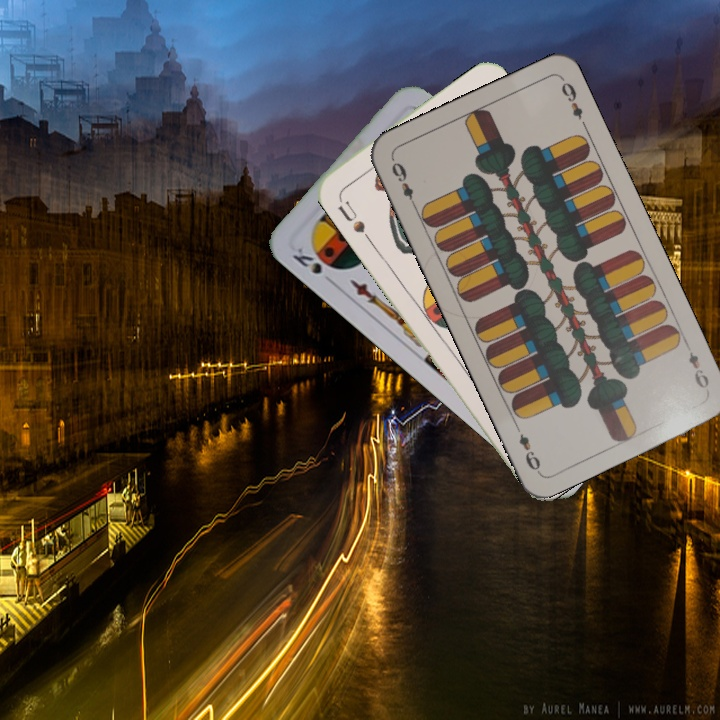E9: (387, 155, 420, 211), (681, 338, 712, 391)
SK: (288, 243, 338, 288)
SU: (333, 197, 368, 236)
